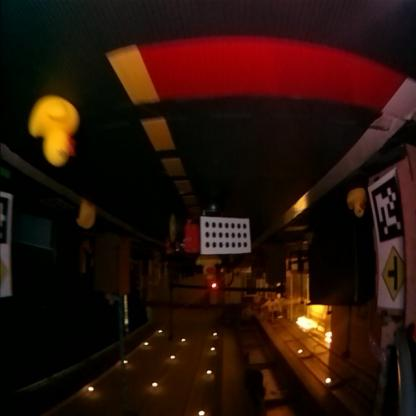Duckie: (30, 96, 80, 166), (198, 258, 222, 280), (348, 192, 368, 218), (78, 202, 96, 230)
Duckiebot: (166, 207, 252, 258)
Intersection sign: (382, 252, 404, 302)
QR code: (373, 180, 405, 244)
